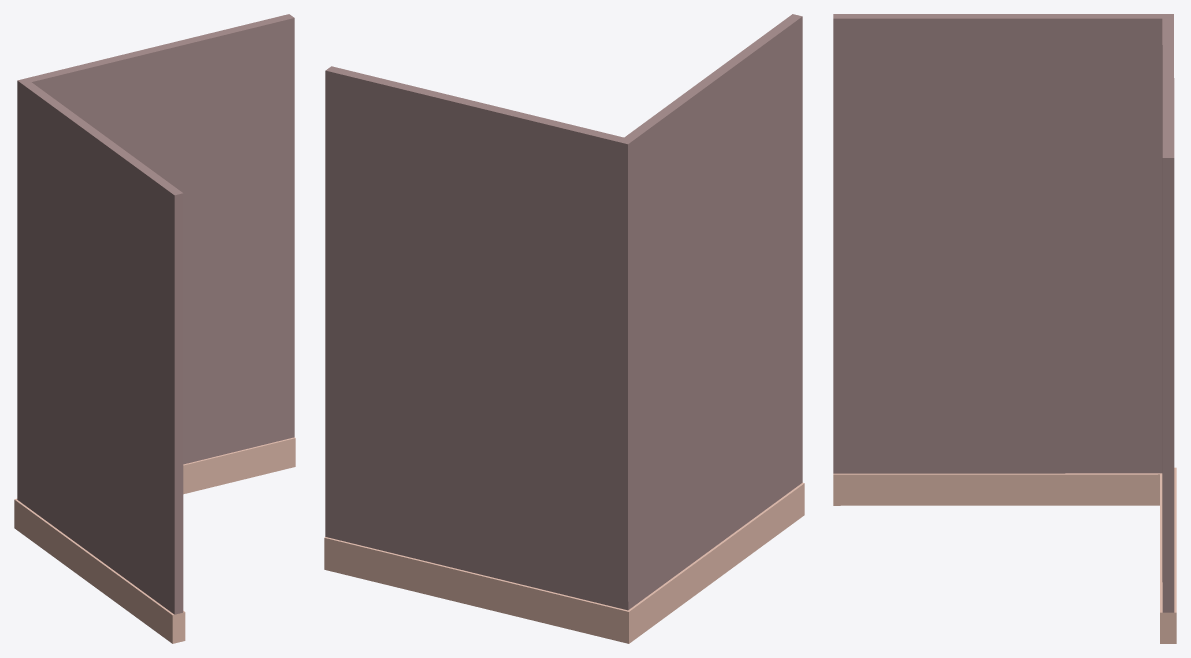
File: SM_L_Wall_2_01.fbx
3 views of the same model, side by side, from view 1: azimuth 30°, elevation 25°; view 2: azimuth 150°, elevation 25°; view 3: azimuth 270°, elevation 25° (orthographic). The views are drawn at different scales.
Parts seen in each view (by area): view 1: SM_L_Wall_2_01; view 2: SM_L_Wall_2_01; view 3: SM_L_Wall_2_01.
Part boxes in pixels (x1,y1,x2,y2): SM_L_Wall_2_01: (14,14,295,643); SM_L_Wall_2_01: (324,14,804,643); SM_L_Wall_2_01: (833,14,1176,643).
Bounding box in the file's own units: 189 × 295 × 189.
